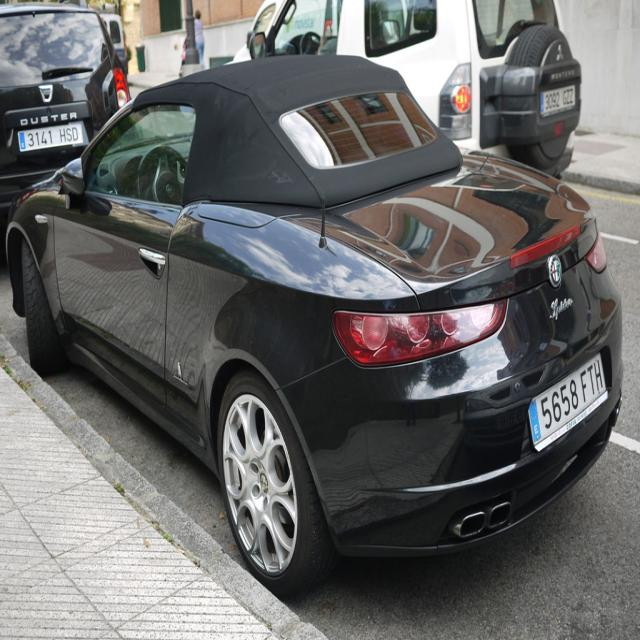car: (5, 47, 624, 607)
